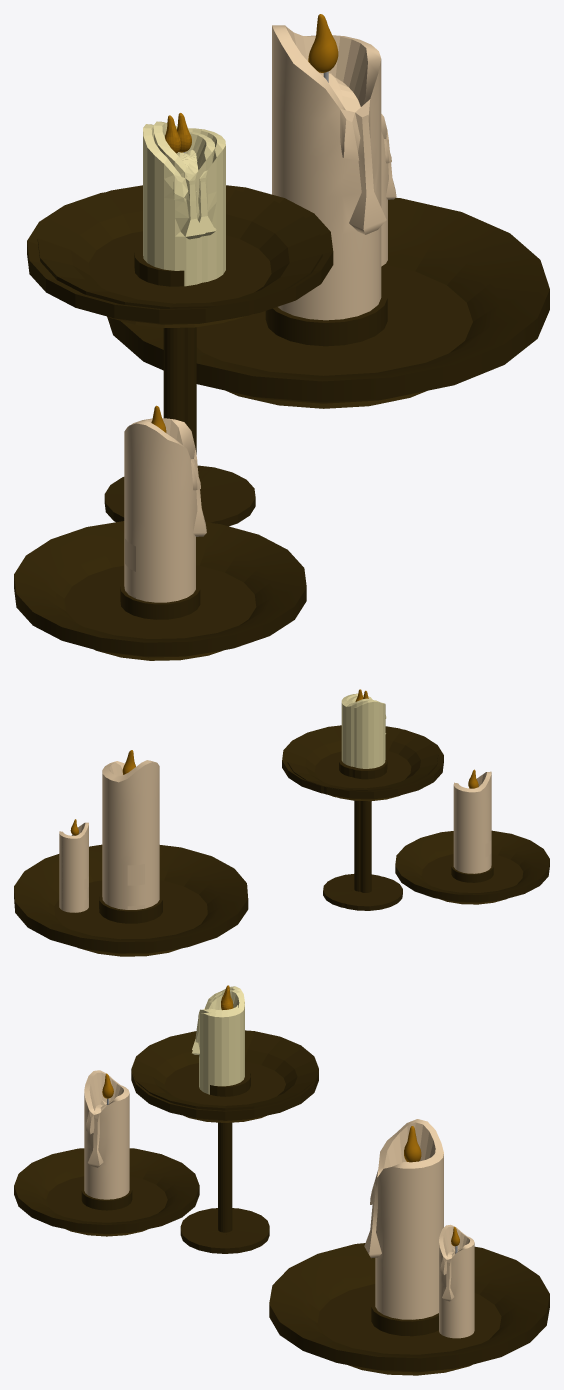
File: Candle.fbx
The picture shows the model from 3 angles, top to bottom: view 1: azimuth 30°, elevation 25°; view 2: azimuth 150°, elevation 25°; view 3: azimuth 270°, elevation 25°; orthographic projection. The views are drawn at different scales.
Parts seen in each view (by area): view 1: pasted__pasted__pSphere3, pasted__pasted__pCylinder7, pasted__group43_pasted__pCylinder9, pasted__group43_pasted__pCylinder8; view 2: pasted__pasted__pSphere3, pasted__pasted__pCylinder7, pasted__group43_pasted__pCylinder9, pasted__group43_pasted__pCylinder8; view 3: pasted__pasted__pSphere3, pasted__pasted__pCylinder7, pasted__group43_pasted__pCylinder8, pasted__group43_pasted__pCylinder9.
Boxes of the visible parts, x1,y1,x2,y2 form: pasted__pasted__pSphere3: (107, 14, 549, 408); pasted__pasted__pCylinder7: (14, 405, 306, 660); pasted__group43_pasted__pCylinder9: (27, 115, 322, 523); pasted__group43_pasted__pCylinder8: (37, 113, 333, 526); pasted__pasted__pSphere3: (14, 750, 248, 956); pasted__pasted__pCylinder7: (395, 769, 549, 904); pasted__group43_pasted__pCylinder9: (287, 690, 443, 910); pasted__group43_pasted__pCylinder8: (282, 689, 438, 907); pasted__pasted__pSphere3: (269, 1119, 549, 1375); pasted__pasted__pCylinder7: (14, 1070, 199, 1236); pasted__group43_pasted__pCylinder8: (131, 988, 318, 1253); pasted__group43_pasted__pCylinder9: (131, 985, 318, 1242).
Bounding box in the file's own units: 61.13 × 32.96 × 61.9.
